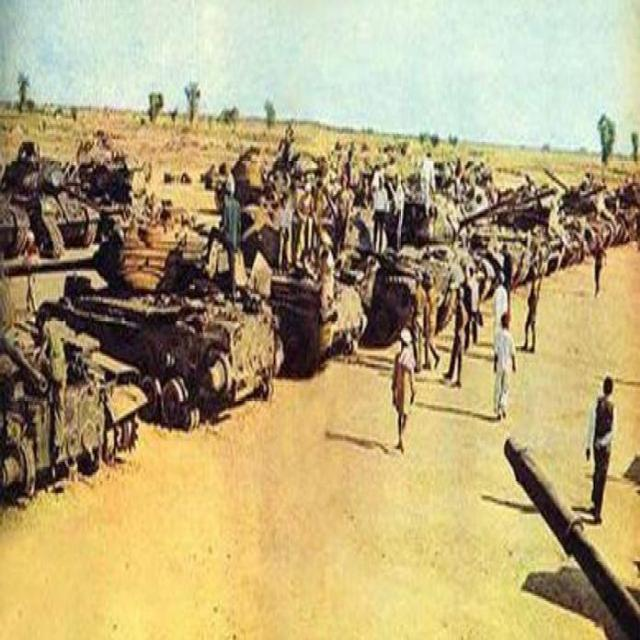MIL_MBT: (6, 304, 138, 496), (384, 228, 601, 329), (149, 257, 279, 404), (8, 126, 96, 256)
